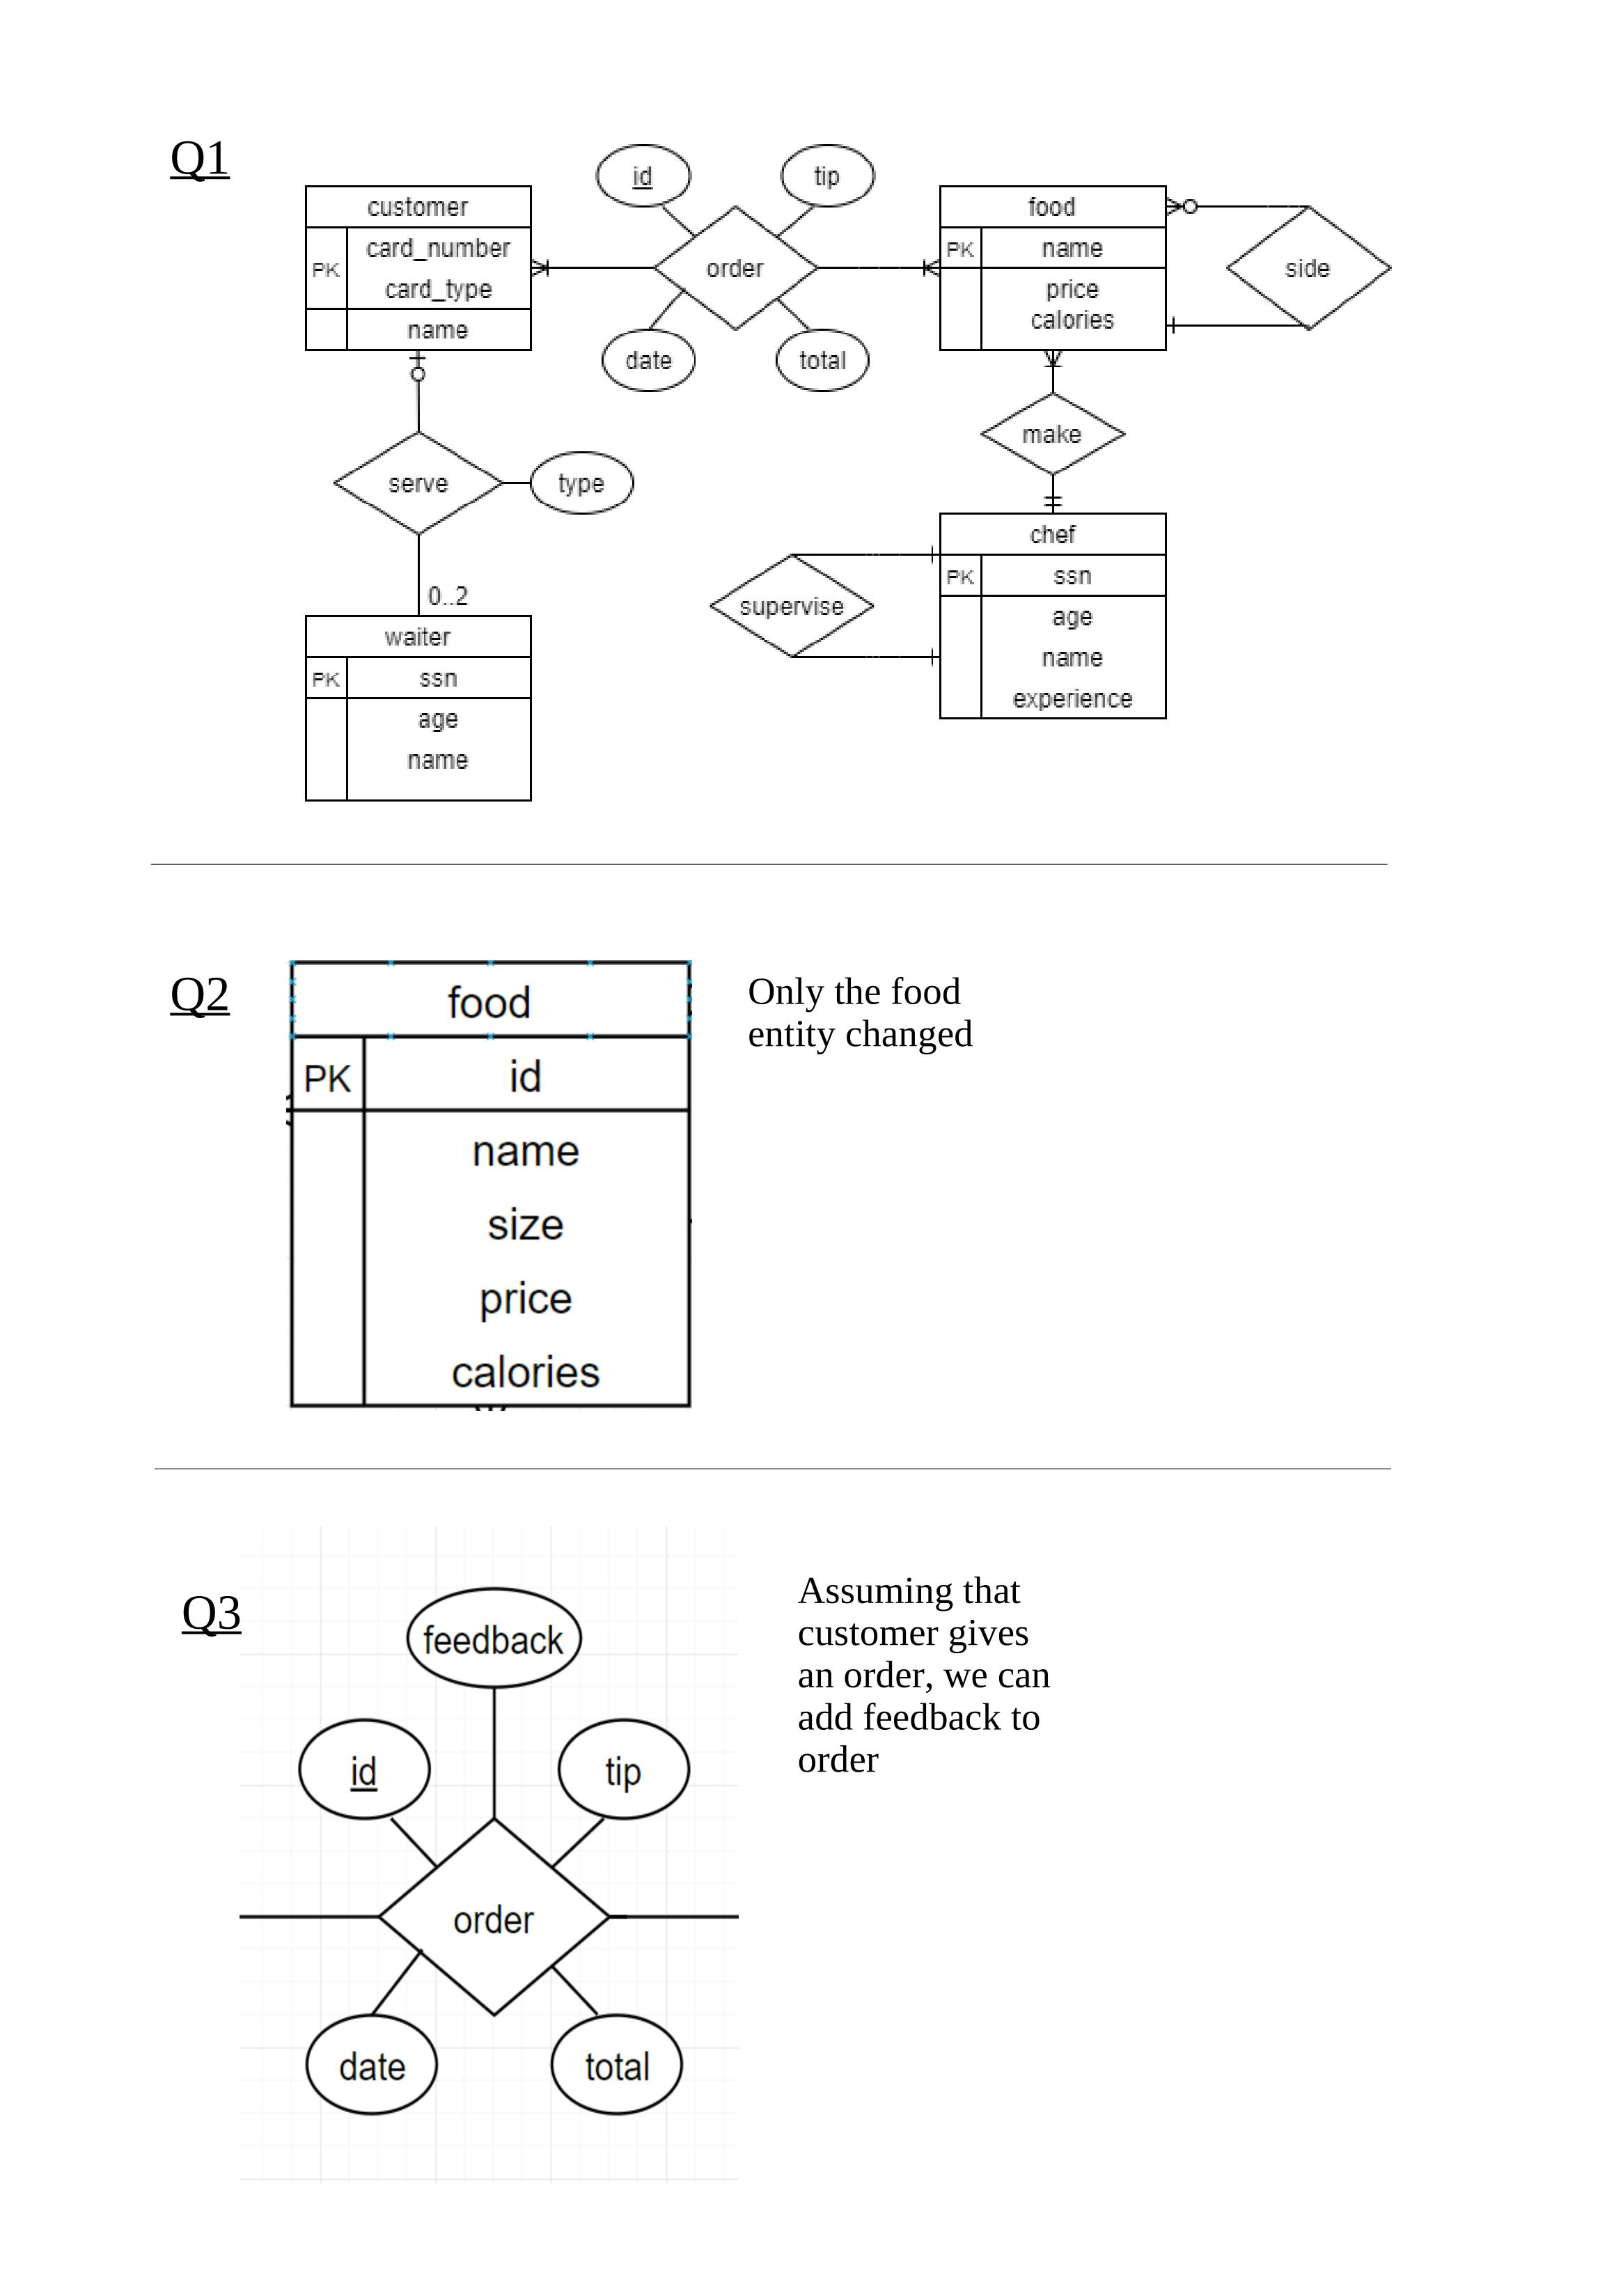Attribute: (404, 1586, 587, 1688), (295, 1718, 437, 1822), (553, 1716, 696, 1818), (302, 2013, 439, 2117), (550, 2015, 685, 2117), (592, 141, 696, 213), (529, 450, 638, 515), (594, 327, 694, 397), (778, 141, 880, 209), (773, 330, 875, 393)
Entity: (283, 957, 692, 1407), (936, 511, 1170, 722), (302, 611, 534, 805), (936, 181, 1170, 353), (302, 181, 532, 355)
Relationship: (376, 1822, 611, 2017), (1223, 206, 1391, 330), (650, 207, 819, 329), (332, 432, 504, 538), (706, 555, 878, 659), (977, 390, 1129, 476)
